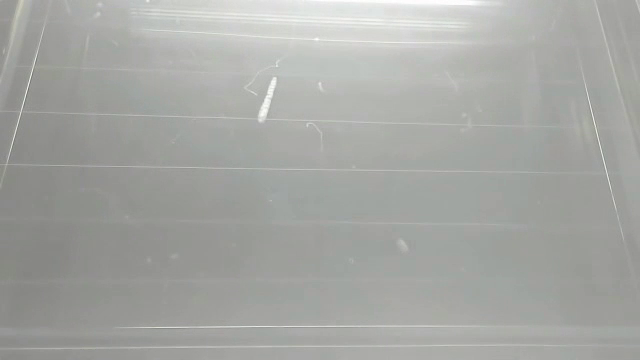alpha: (255, 74, 283, 127), (393, 234, 411, 256)
